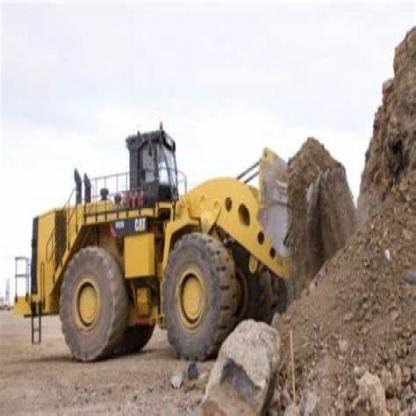bull_dozer/loader/grader: (9, 101, 345, 384)
